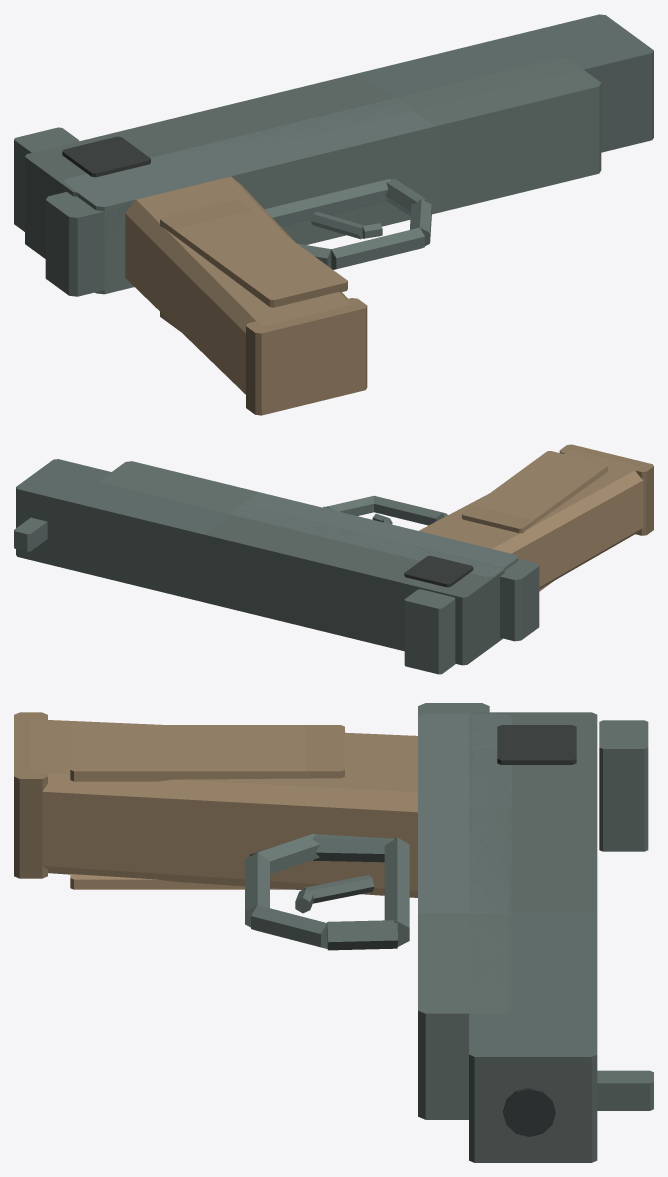
The model's file is weapon-m1911.glb.
3 views of the same model, one above another, from view 1: azimuth 30°, elevation 25°; view 2: azimuth 150°, elevation 25°; view 3: azimuth 270°, elevation 25° (orthographic). The views are drawn at different scales.
Parts seen in each view (by area): view 1: weapon-m1911/lower-frame, weapon-m1911/flat-slide, weapon-m1911/eight-sided-grip, weapon-m1911/eight-sided-grip-heel, weapon-m1911/independent-grip-panels-left, weapon-m1911/external-backstrap-tail, weapon-m1911/hollow-trigger-guard-1, weapon-m1911/slide-rear-serrations-left, weapon-m1911/hollow-trigger-guard-4, weapon-m1911/rear-sight, weapon-m1911/hollow-trigger-guard-trigger-1, weapon-m1911/hollow-trigger-guard-2 (+1 smaller); view 2: weapon-m1911/flat-slide, weapon-m1911/lower-frame, weapon-m1911/eight-sided-grip, weapon-m1911/independent-grip-panels-left, weapon-m1911/rear-sight, weapon-m1911/external-backstrap-tail, weapon-m1911/eight-sided-grip-heel, weapon-m1911/slide-rear-serrations-left, weapon-m1911/hollow-trigger-guard-4, weapon-m1911/front-sight, weapon-m1911/hollow-trigger-guard-3; view 3: weapon-m1911/flat-slide, weapon-m1911/eight-sided-grip, weapon-m1911/lower-frame, weapon-m1911/independent-grip-panels-left, weapon-m1911/rear-sight, weapon-m1911/eight-sided-grip-heel, weapon-m1911/slide-rear-serrations-left, weapon-m1911/hollow-trigger-guard-1, weapon-m1911/front-sight, weapon-m1911/hollow-trigger-guard-2, weapon-m1911/muzzle-dark-disc, weapon-m1911/hollow-trigger-guard-3 (+6 smaller).
Part boxes in pixels (x1,y1,x2,y2): weapon-m1911/lower-frame: (64,58,601,294); weapon-m1911/flat-slide: (25,14,653,258); weapon-m1911/eight-sided-grip: (125,176,350,394); weapon-m1911/eight-sided-grip-heel: (246,298,367,415); weapon-m1911/independent-grip-panels-left: (160,200,347,307); weapon-m1911/external-backstrap-tail: (45,192,131,296); weapon-m1911/hollow-trigger-guard-1: (265,179,390,226); weapon-m1911/slide-rear-serrations-left: (62,136,150,177); weapon-m1911/hollow-trigger-guard-4: (331,227,424,269); weapon-m1911/rear-sight: (14,127,79,231); weapon-m1911/hollow-trigger-guard-trigger-1: (311,211,363,239); weapon-m1911/hollow-trigger-guard-2: (385,179,428,216); weapon-m1911/flat-slide: (16,459,504,665); weapon-m1911/lower-frame: (100,461,518,576); weapon-m1911/eight-sided-grip: (419,450,643,588); weapon-m1911/independent-grip-panels-left: (462,451,607,533); weapon-m1911/rear-sight: (404,589,455,674); weapon-m1911/external-backstrap-tail: (500,558,539,641); weapon-m1911/eight-sided-grip-heel: (559,444,653,535); weapon-m1911/slide-rear-serrations-left: (404,555,473,587); weapon-m1911/hollow-trigger-guard-4: (374,495,446,525); weapon-m1911/front-sight: (14,517,47,551); weapon-m1911/hollow-trigger-guard-3: (326,496,373,515); weapon-m1911/flat-slide: (469,712,597,1162); weapon-m1911/eight-sided-grip: (31,719,417,897); weapon-m1911/lower-frame: (418,714,512,1119); weapon-m1911/independent-grip-panels-left: (70,725,344,781); weapon-m1911/rear-sight: (599,720,648,851); weapon-m1911/eight-sided-grip-heel: (14,712,47,878); weapon-m1911/slide-rear-serrations-left: (497,725,576,764); weapon-m1911/hollow-trigger-guard-1: (384,837,409,946); weapon-m1911/front-sight: (597,1070,653,1110); weapon-m1911/hollow-trigger-guard-2: (327,920,397,950); weapon-m1911/muzzle-dark-disc: (503,1087,555,1136); weapon-m1911/hollow-trigger-guard-3: (251,905,328,948).
Bounding box in the file's own units: 0.227 × 0.0346 × 0.1695.
Materials: 3 (3 with a texture image).
